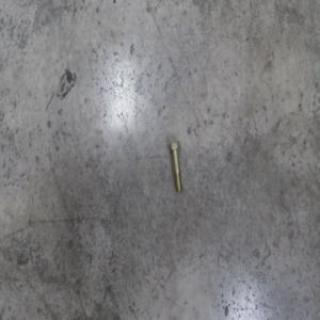Bolttrack_idkeyframe: (167, 140, 182, 193)
